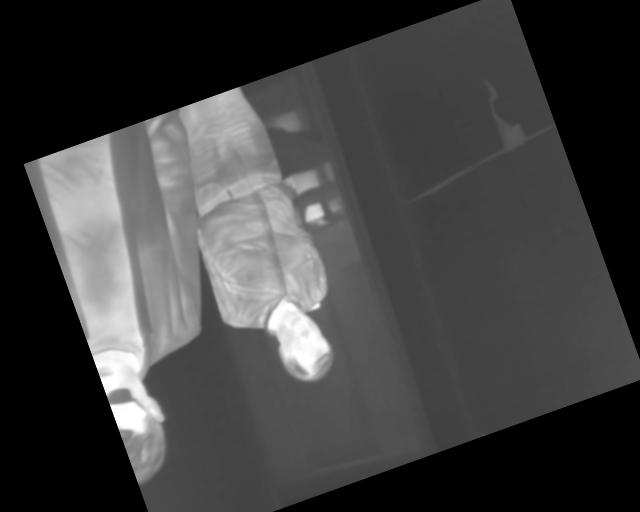face: (265, 301, 341, 391)
